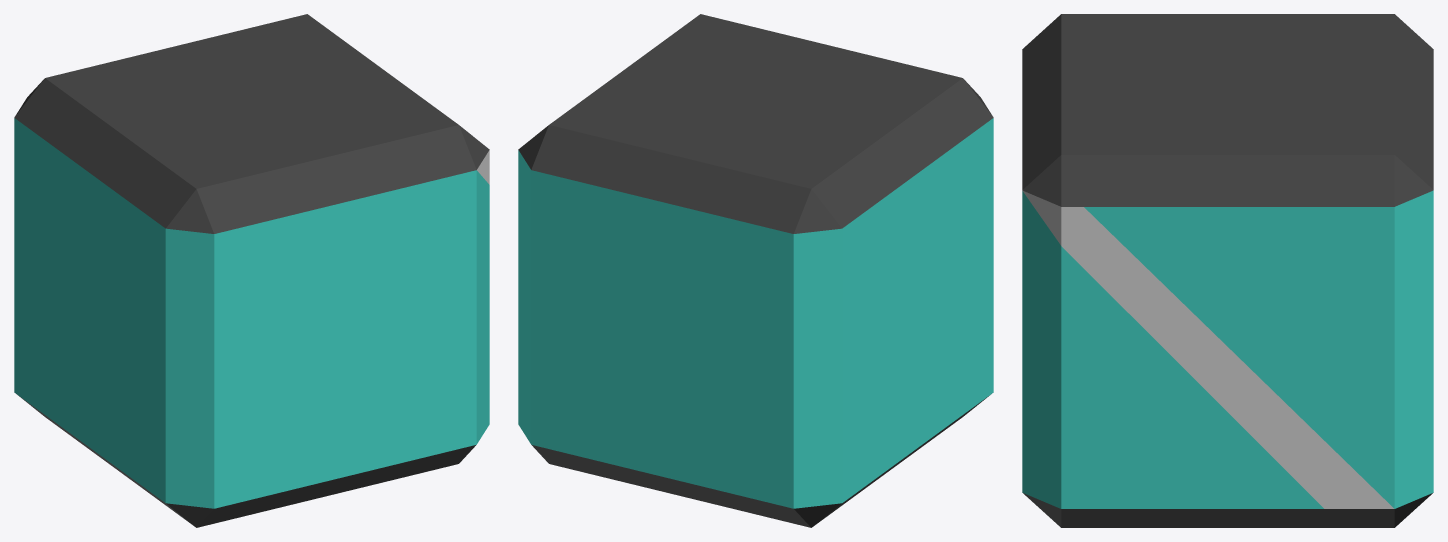
Rendered from BigCase3.fbx.
3 views of the same model, side by side, from view 1: azimuth 30°, elevation 25°; view 2: azimuth 150°, elevation 25°; view 3: azimuth 270°, elevation 25° (orthographic). The views are drawn at different scales.
Visible parts, largest first — view 1: Cube.035; view 2: Cube.035; view 3: Cube.035.
Boxes of the visible parts, box(x1,y1,x2,y2) form: Cube.035: box(14, 14, 489, 527); Cube.035: box(518, 14, 993, 527); Cube.035: box(1022, 14, 1433, 527).
Bounding box in the file's own units: 72.28 × 72.28 × 72.28.
